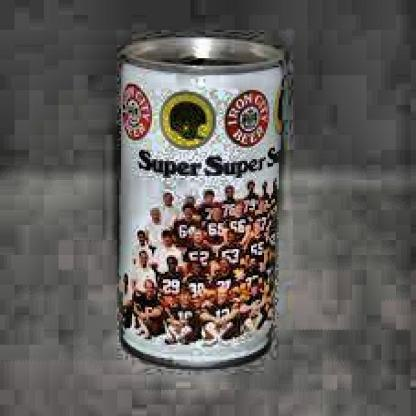Can: (113, 33, 290, 373)
